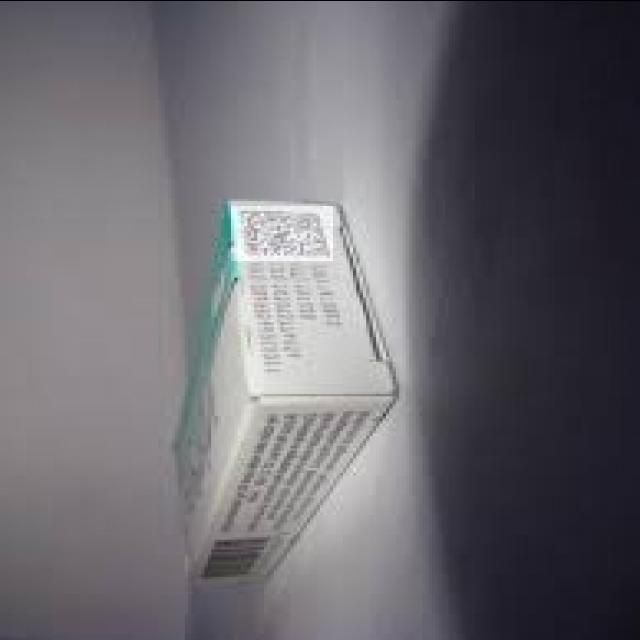DataMatrix: (231, 205, 333, 260)
